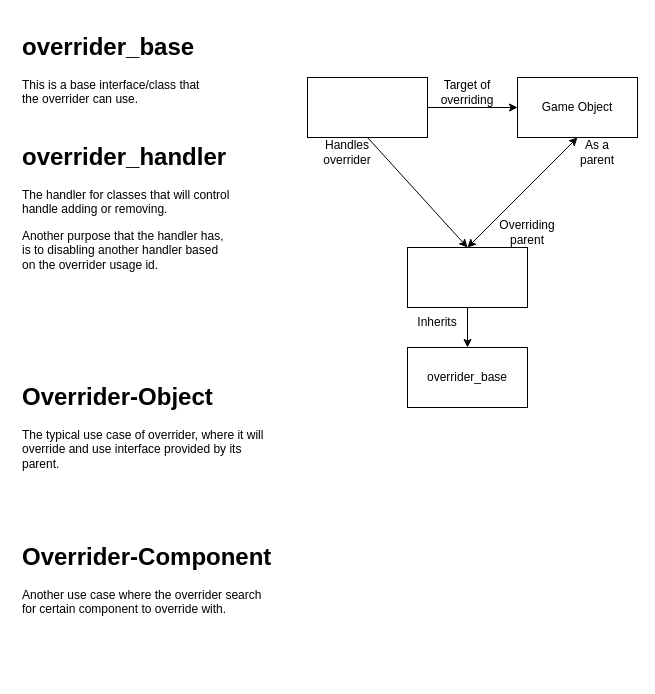
Image size: 655x694. Some labels were removed from this diagram. Each missing label, with the box of its shape:
Actor: (306, 76, 428, 138)
Overrider Object: (406, 246, 528, 308)
